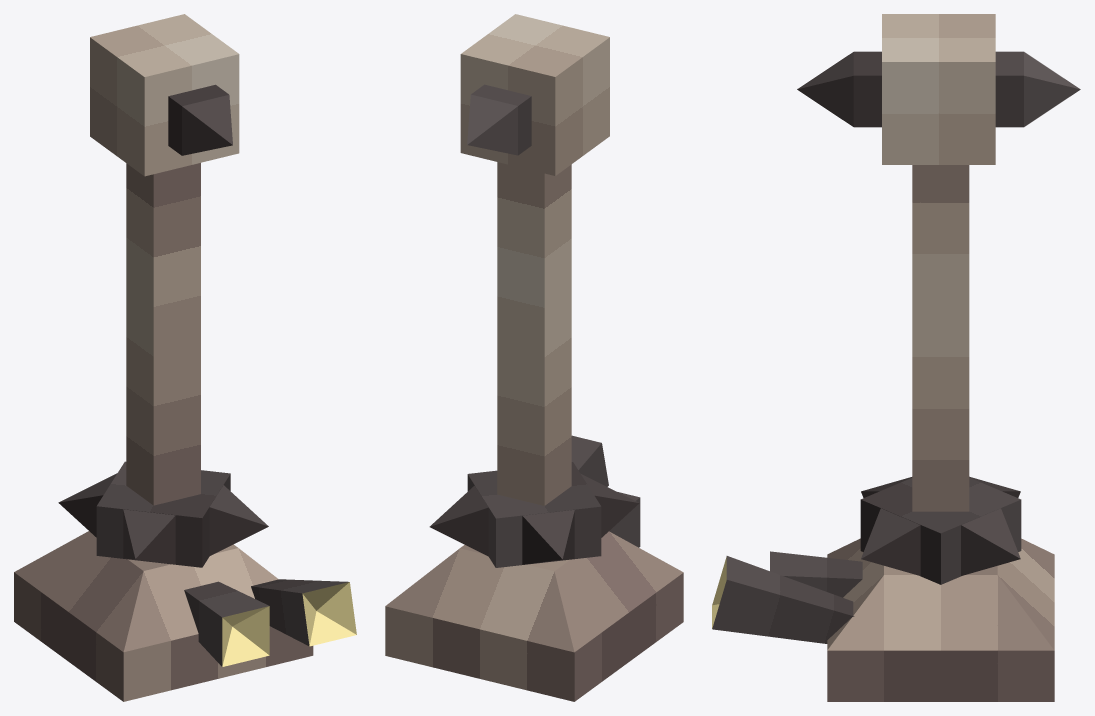
File: leg_rocket_r.obj
The picture shows the model from 3 angles, left to right: view 1: azimuth 30°, elevation 25°; view 2: azimuth 150°, elevation 25°; view 3: azimuth 270°, elevation 25°; orthographic projection. The views are drawn at different scales.
Parts seen in each view (by area): view 1: LEG_RIGHT_BONE_ROCKET_Cube.457; view 2: LEG_RIGHT_BONE_ROCKET_Cube.457; view 3: LEG_RIGHT_BONE_ROCKET_Cube.457.
Part boxes in pixels (x1,y1,x2,y2): LEG_RIGHT_BONE_ROCKET_Cube.457: (14,14,356,701); LEG_RIGHT_BONE_ROCKET_Cube.457: (385,14,683,701); LEG_RIGHT_BONE_ROCKET_Cube.457: (712,14,1080,701).
Bounding box in the file's own units: 0.25 × 0.7478 × 0.4057.
